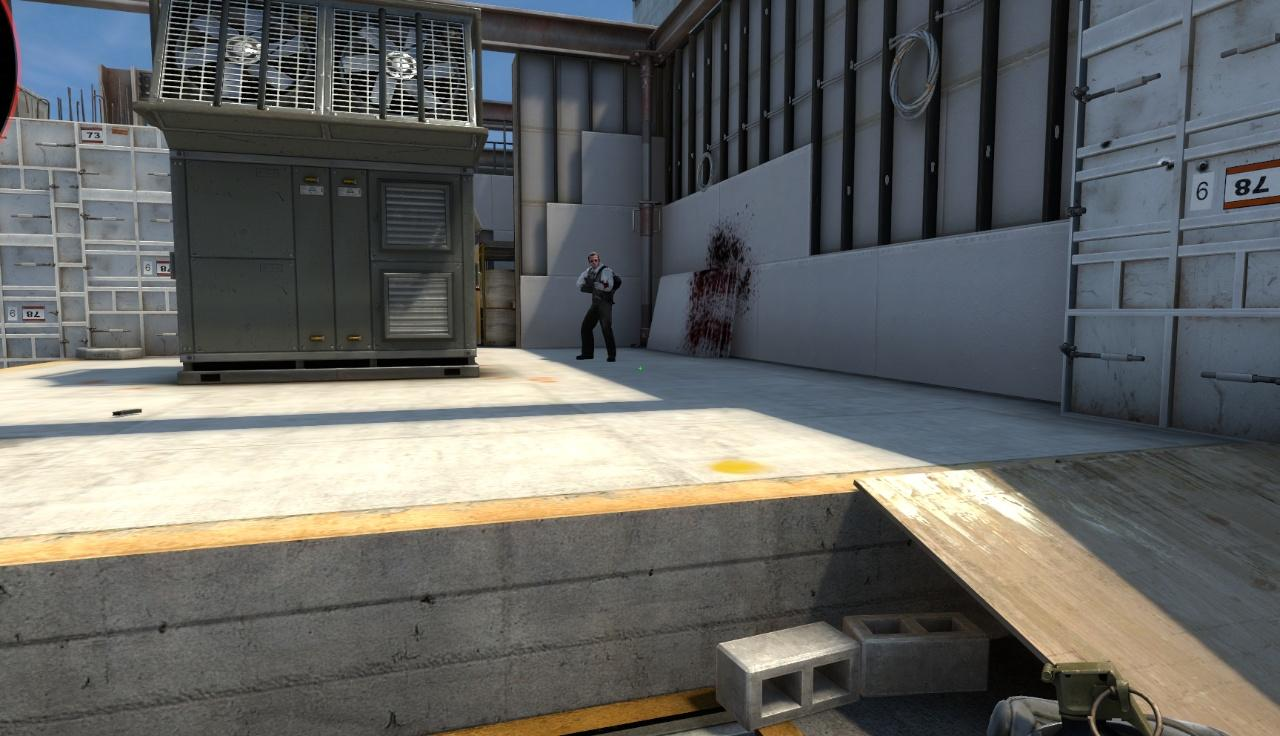tt: (582, 252, 614, 359)
tthead: (586, 254, 600, 267)
